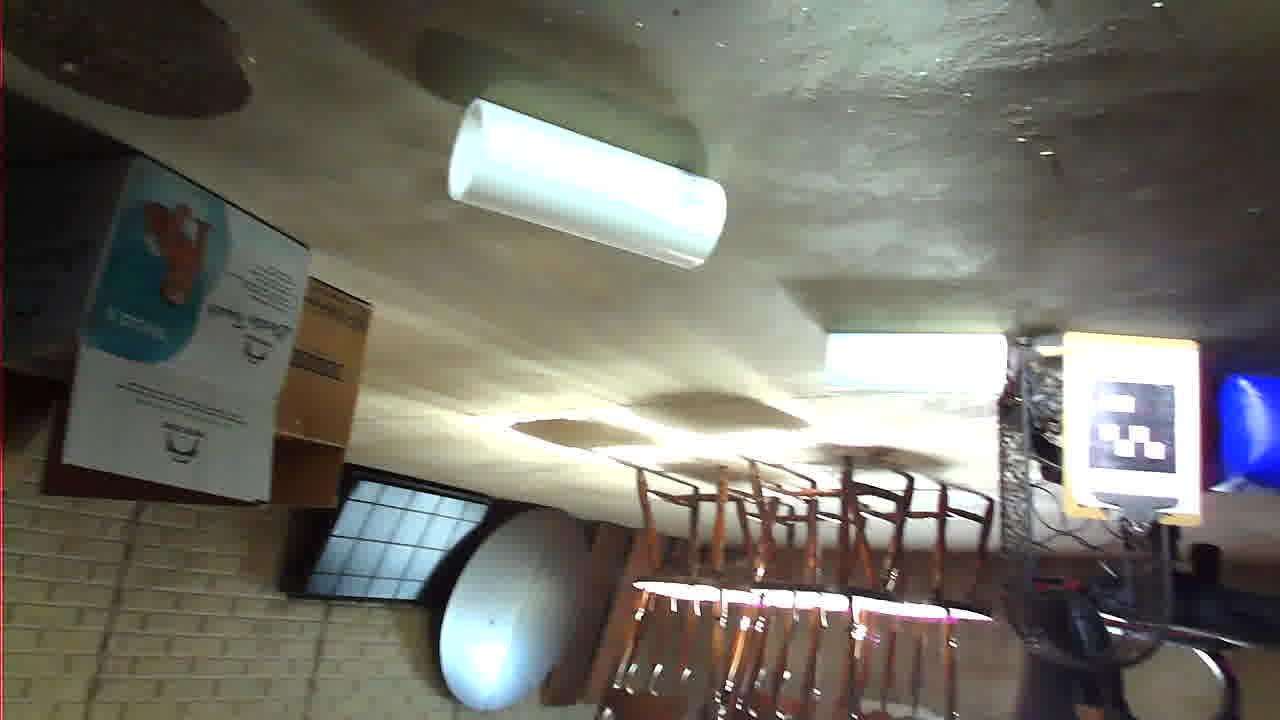coral: (554, 451, 832, 622), (272, 329, 455, 388)
